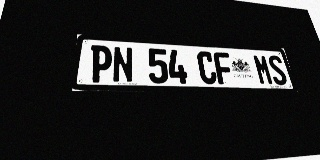4: (167, 49, 188, 84)
5: (148, 48, 169, 84)
C: (196, 51, 218, 84)
F: (213, 52, 235, 84)
M: (252, 54, 274, 85)
N: (112, 46, 133, 83)
P: (89, 45, 112, 83)
S: (266, 55, 289, 85)
